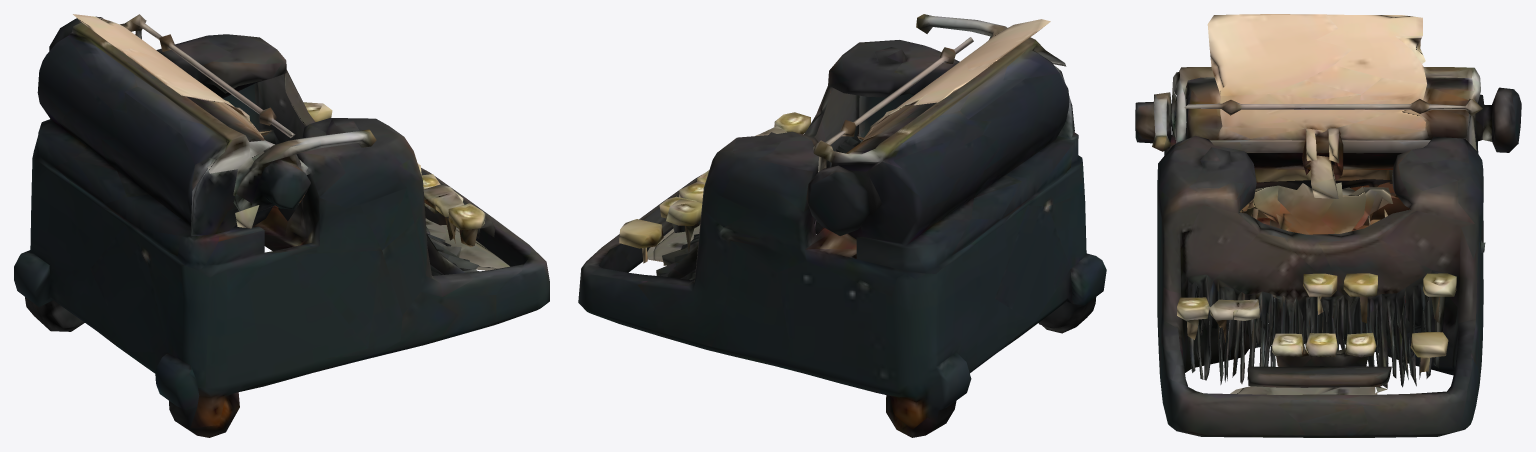
File: deco_typewriter.glb
3 renders of one model, left to right at view 1: azimuth 30°, elevation 25°; view 2: azimuth 150°, elevation 25°; view 3: azimuth 270°, elevation 25°, orthographic. The views are drawn at different scales.
Parts seen in each view (by area): view 1: tripo_node_fec8c5b7-86bc-4256-9c81-119b6887b39c; view 2: tripo_node_fec8c5b7-86bc-4256-9c81-119b6887b39c; view 3: tripo_node_fec8c5b7-86bc-4256-9c81-119b6887b39c.
Part boxes in pixels (<box>): tripo_node_fec8c5b7-86bc-4256-9c81-119b6887b39c: <box>14,14,549,437</box>; tripo_node_fec8c5b7-86bc-4256-9c81-119b6887b39c: <box>578,14,1106,437</box>; tripo_node_fec8c5b7-86bc-4256-9c81-119b6887b39c: <box>1135,14,1521,437</box>.
Bounding box in the file's own units: 0.9998 × 0.7956 × 0.9157.
1 material, 1 textured.
